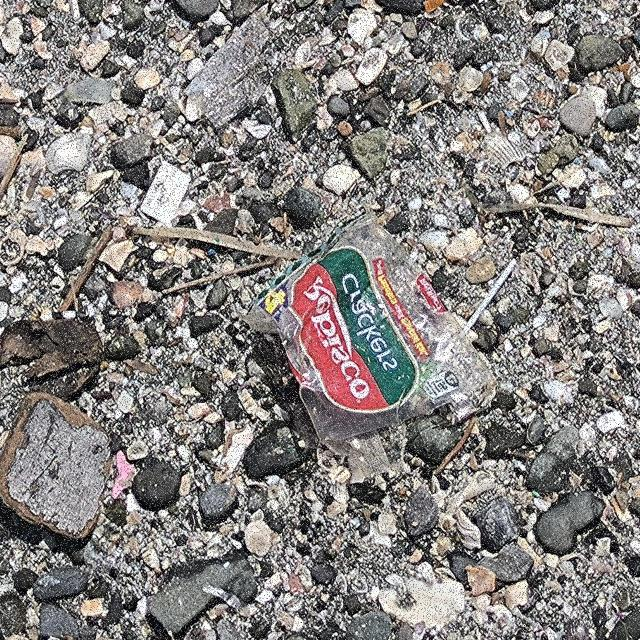plastic_waste: (238, 215, 501, 449)
